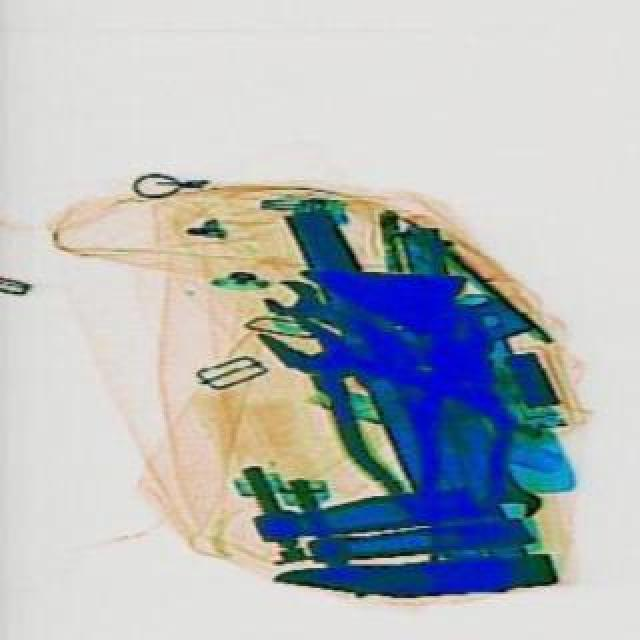scissors: (254, 270, 436, 374)
wrench: (220, 268, 524, 526)
